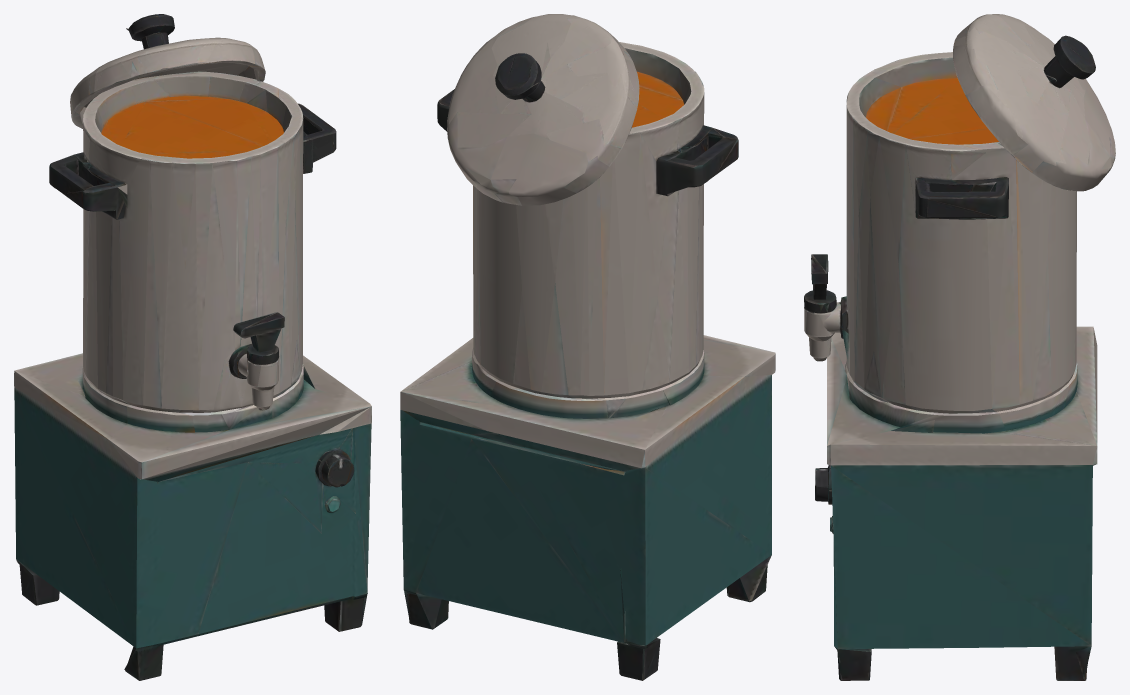
File: teaUrn.glb
3 views of the same model, side by side, from view 1: azimuth 30°, elevation 25°; view 2: azimuth 150°, elevation 25°; view 3: azimuth 270°, elevation 25° (orthographic). The views are drawn at different scales.
Visible parts, largest first — view 1: Mesh_0; view 2: Mesh_0; view 3: Mesh_0.
Boxes of the visible parts, bbox=[...] form: Mesh_0: bbox=[14, 14, 371, 680]; Mesh_0: bbox=[400, 14, 775, 680]; Mesh_0: bbox=[804, 14, 1115, 680].
Size of the model in its own units: 0.2572 by 0.55 by 0.2599.
1 material, 1 textured.
